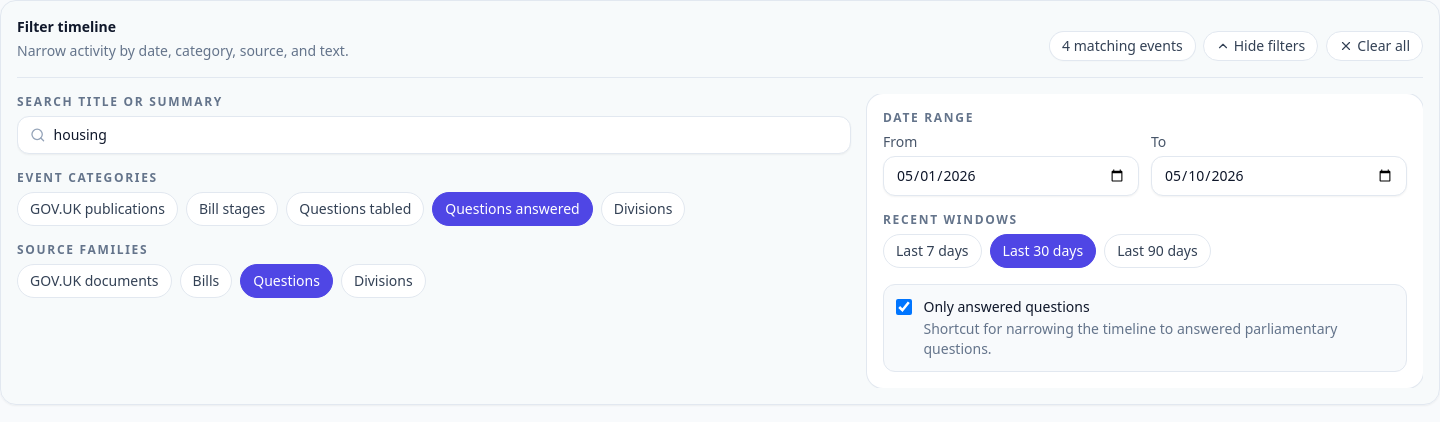
Test case: TimelineFilters › wires filter actions and shows the active filter summary when collapsed
Step 1. Click the button "Last 30 days" → x=1043, y=251, box [990,234,1096,268]
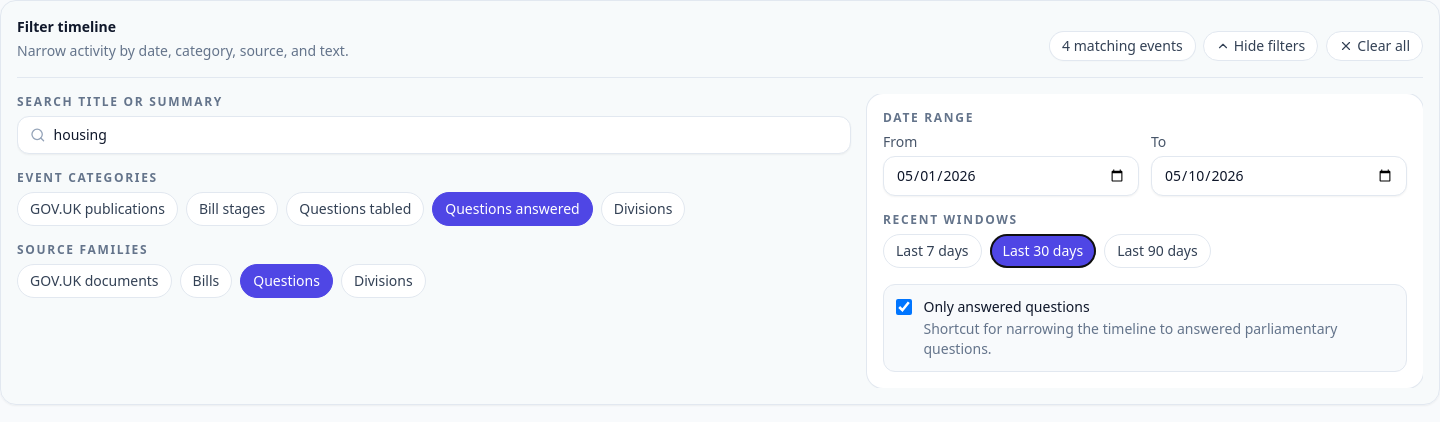
Step 2. Click the checkbox labelled "Only answered questions" → x=904, y=307, box [896,299,912,315]
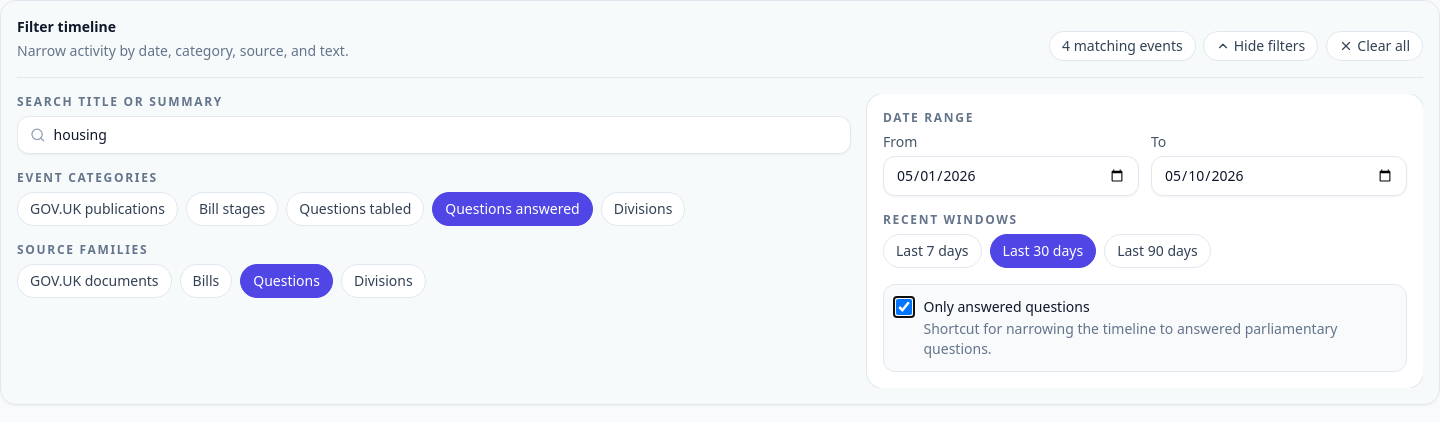
Step 3. Click the button "Clear all" → x=1375, y=46, box [1326,31,1423,61]
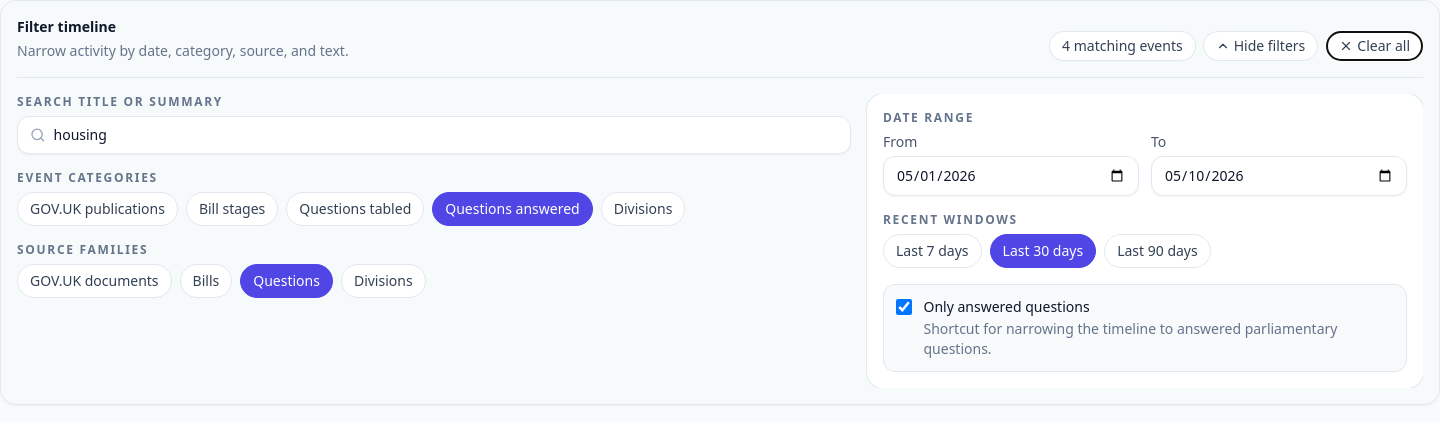
Step 4. Click the button "Hide filters" → x=1260, y=46, box [1203,31,1318,61]
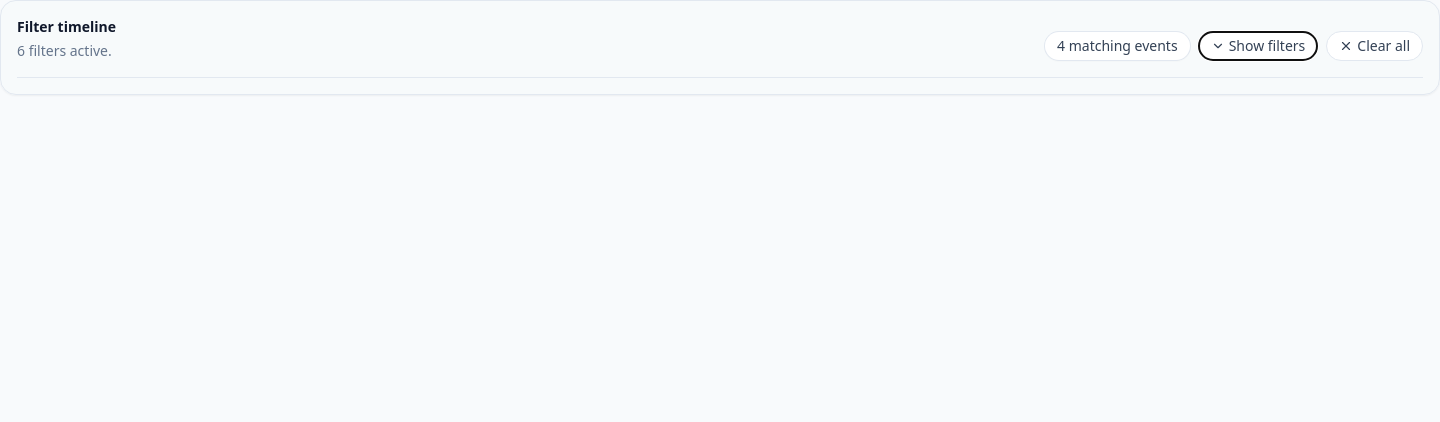
Check: the text "6 filters active." is shown, box [17,41,116,61]
